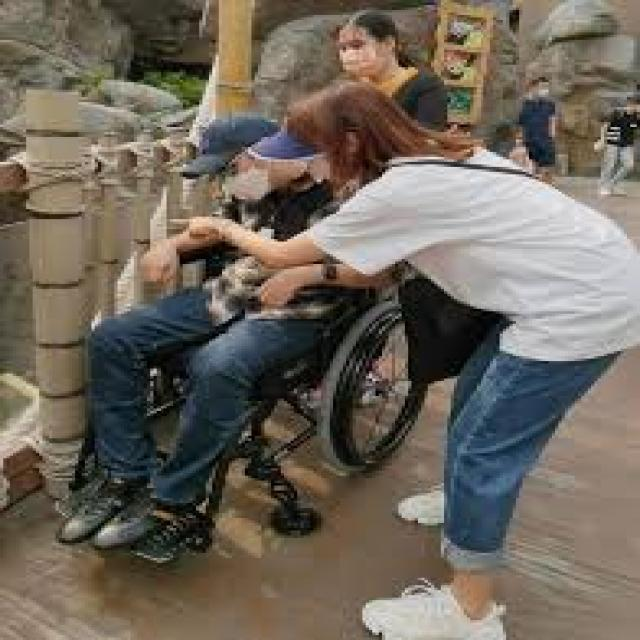wheelchairs: (52, 209, 460, 573)
